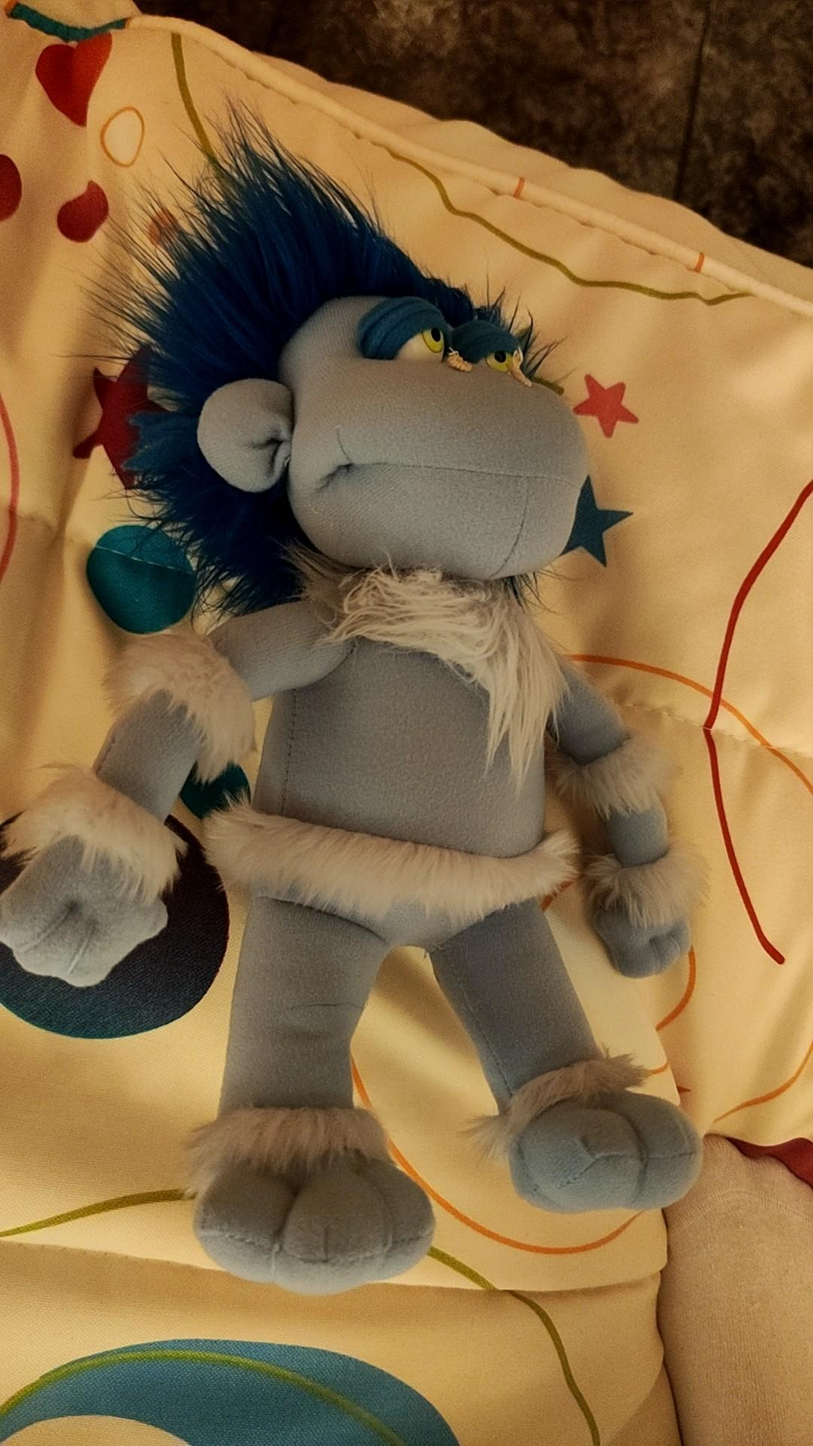toy: (0, 137, 699, 1292)
